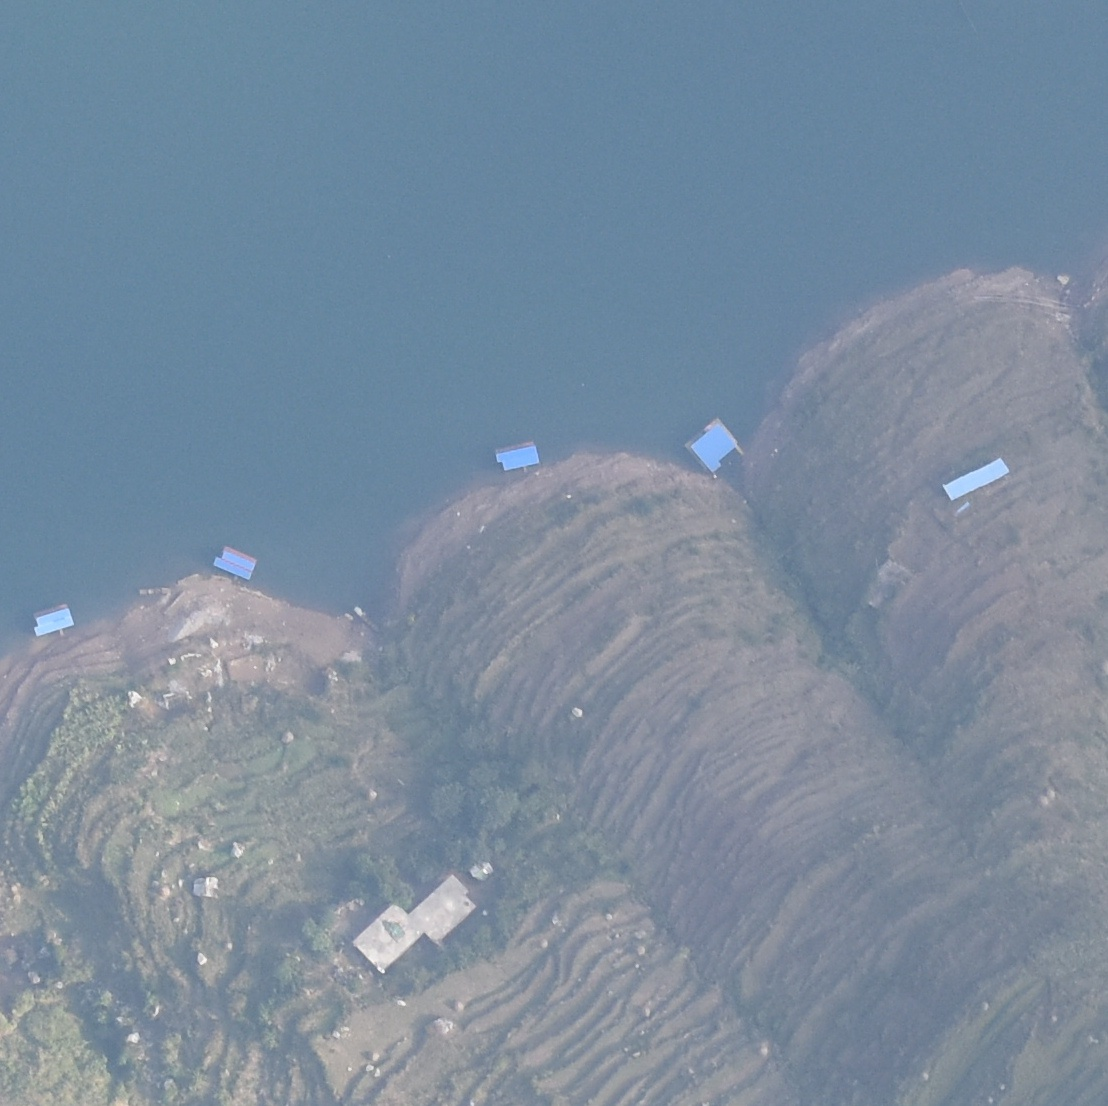building: (409, 873, 478, 945)
prefabricated-house: (348, 906, 426, 972), (942, 456, 1011, 502), (684, 421, 739, 475), (211, 546, 258, 581), (32, 604, 76, 638), (495, 445, 543, 471)
